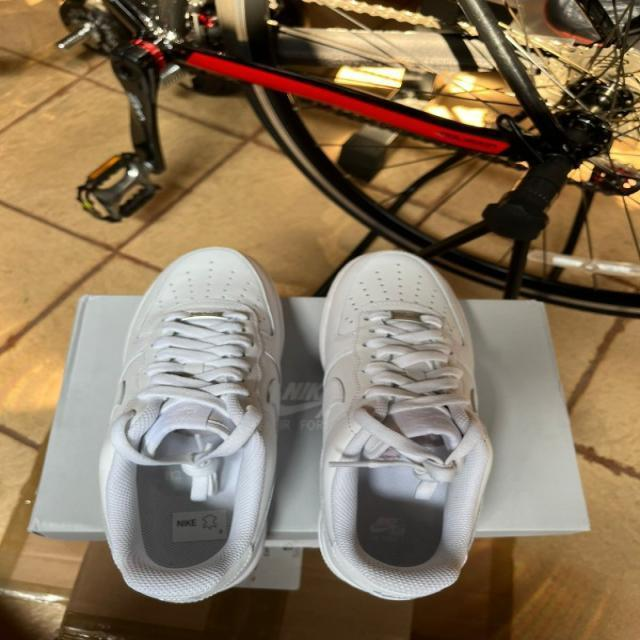nike original air force: (90, 244, 294, 606), (312, 248, 497, 602)
